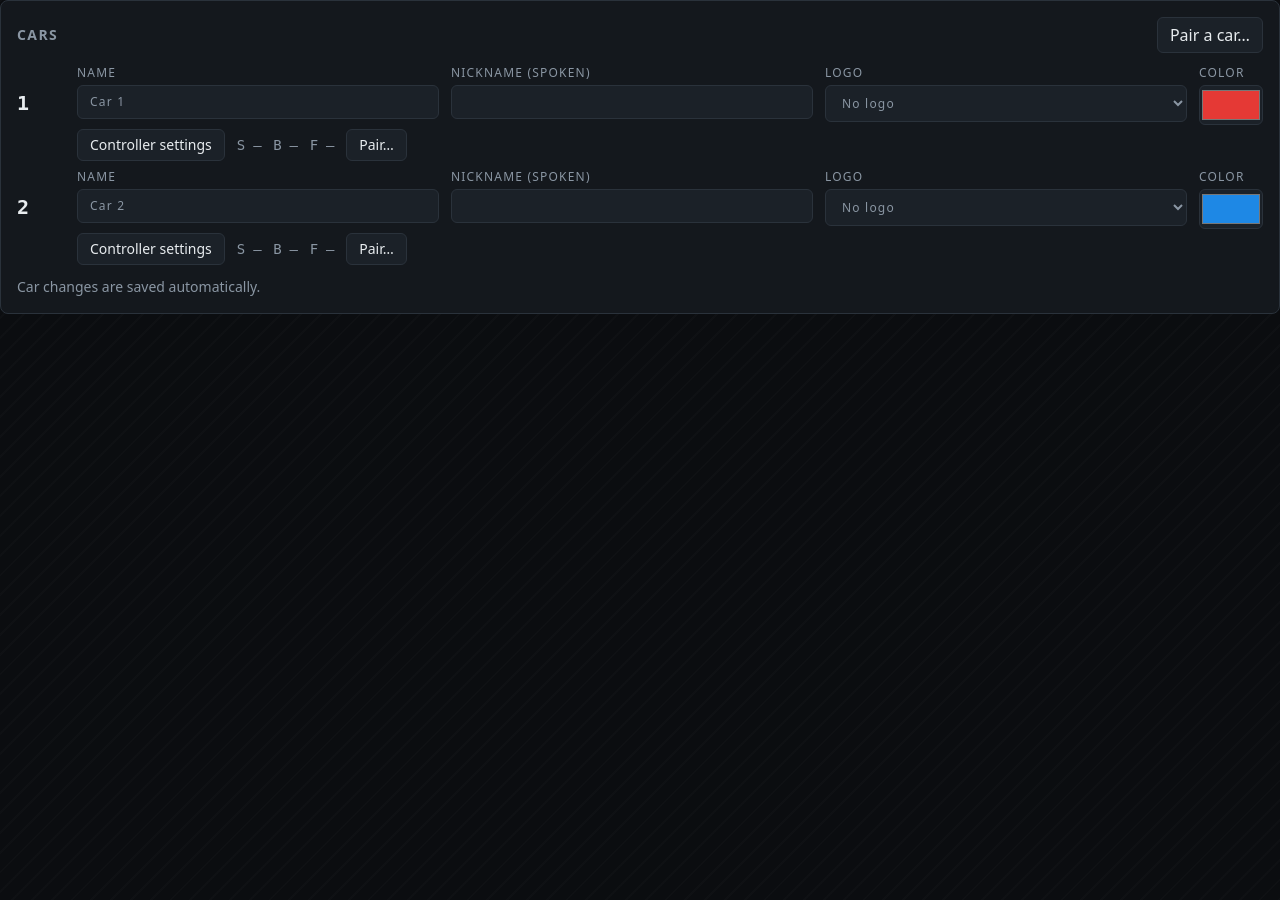
it: CarsSection controller settings › opens the pairing wizard for a car
The image size is (1280, 900).
Click the 2nd button with test id "car-pair" at [376, 249], box [346,233,407,265]
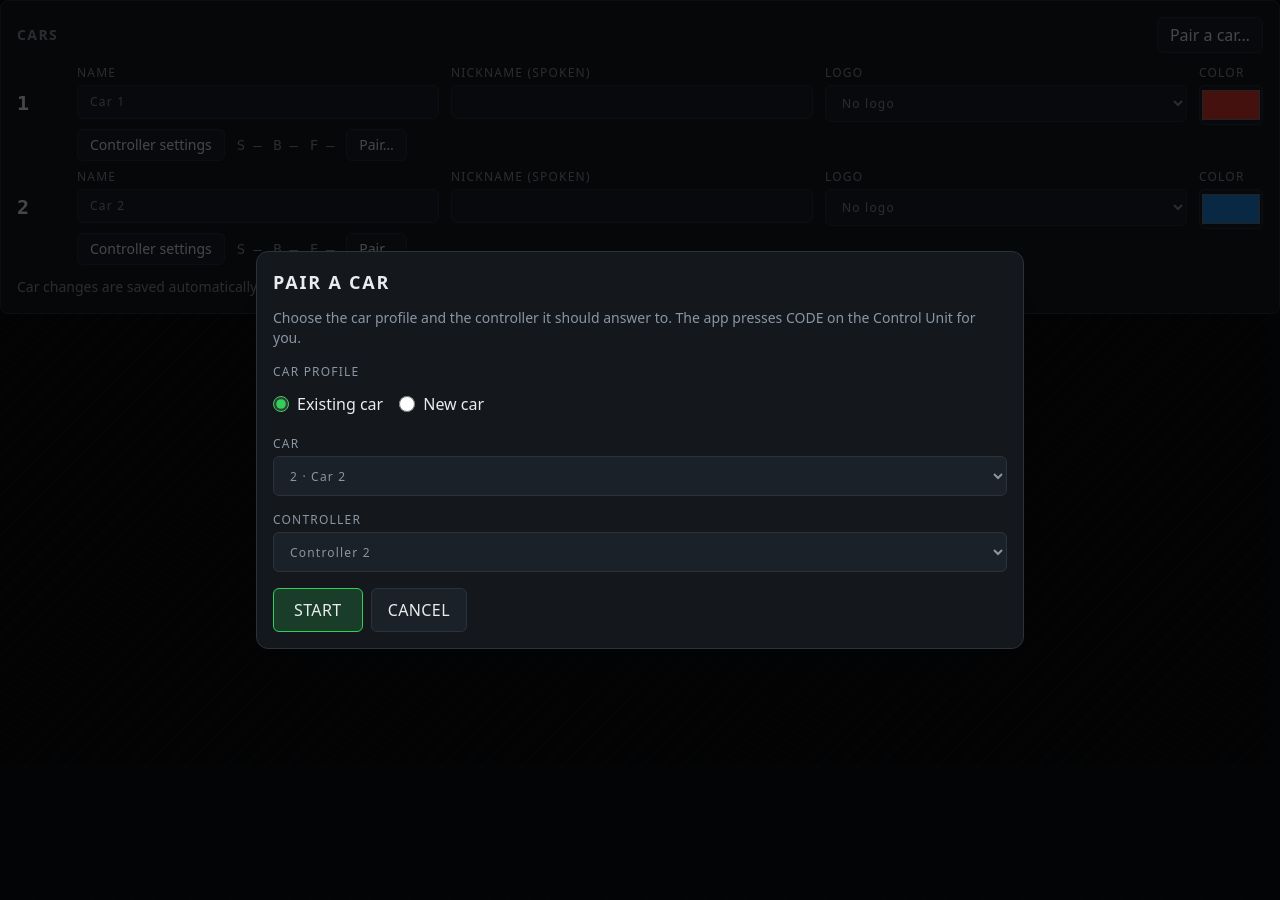
Now the dialog "Pair a car" is shown, box [256,251,1024,649]
Now the dropdown with test id "pair-existing" shows "2 · Car 2", box [273,456,1007,496]
Now the dropdown with test id "pair-target" shows "Controller 2", box [273,532,1007,572]
